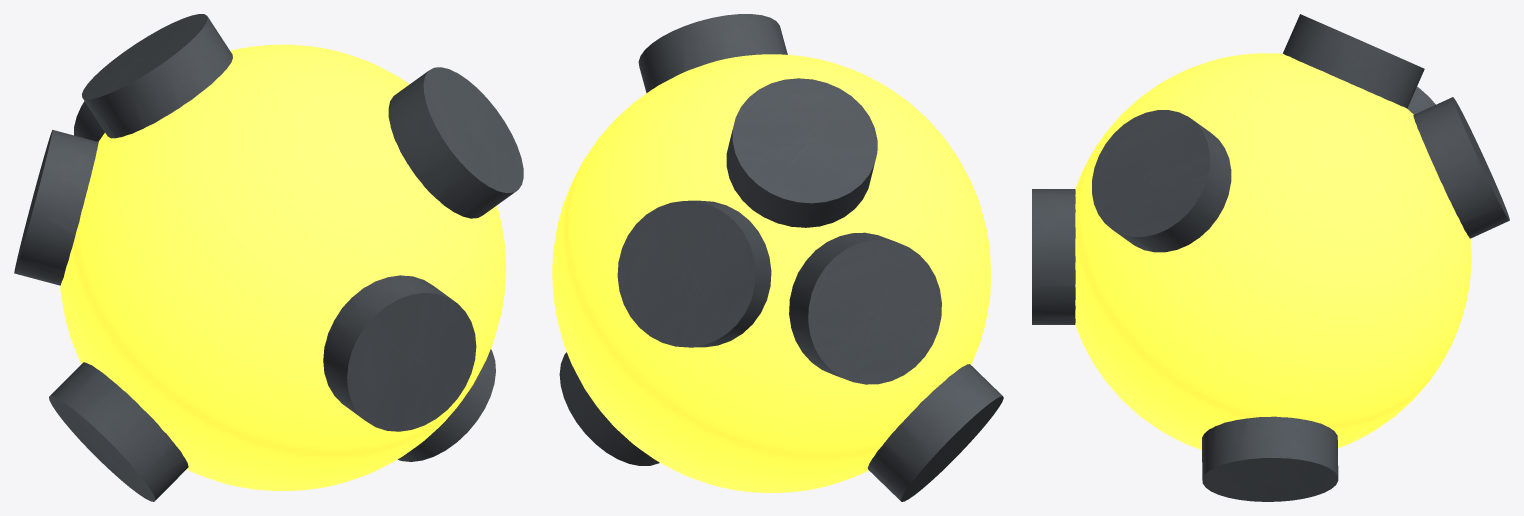
File: reactorcore.fbx
The picture shows the model from 3 angles, left to right: view 1: azimuth 30°, elevation 25°; view 2: azimuth 150°, elevation 25°; view 3: azimuth 270°, elevation 25°; orthographic projection. The views are drawn at different scales.
Parts seen in each view (by area): view 1: Cylinder; view 2: Cylinder; view 3: Cylinder.
Boxes of the visible parts, x1,y1,x2,y2 form: Cylinder: (14, 14, 523, 501); Cylinder: (552, 14, 1003, 501); Cylinder: (1032, 14, 1509, 501).
Size of the model in its own units: 1107 by 1124 by 1192.
